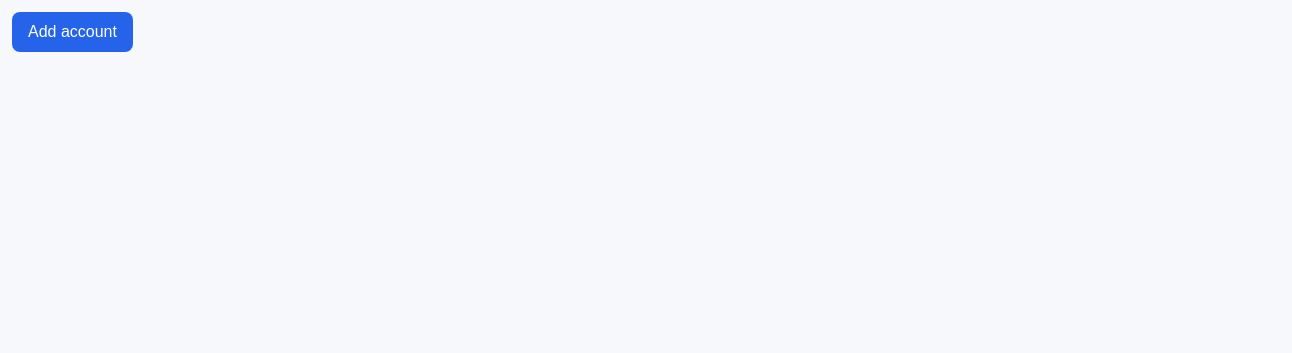
Scenario: chart of accounts form › shows a retryable failure and retains the account details when creation throws
This screenshot has width=1292, height=353.
Click the button "Add account": {"x": 72, "y": 32} [12,12,133,52]
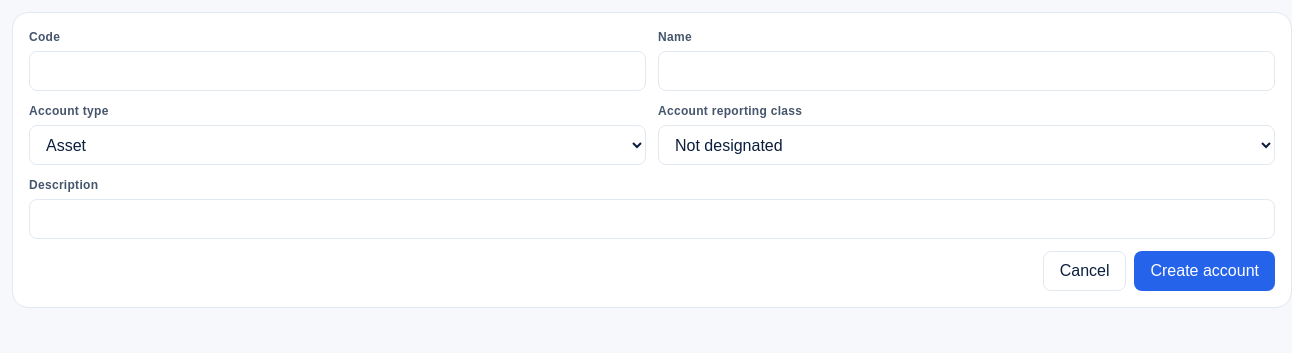
In the field labelled "Code": {"x": 338, "y": 71} [29,51,646,91], type "1010"
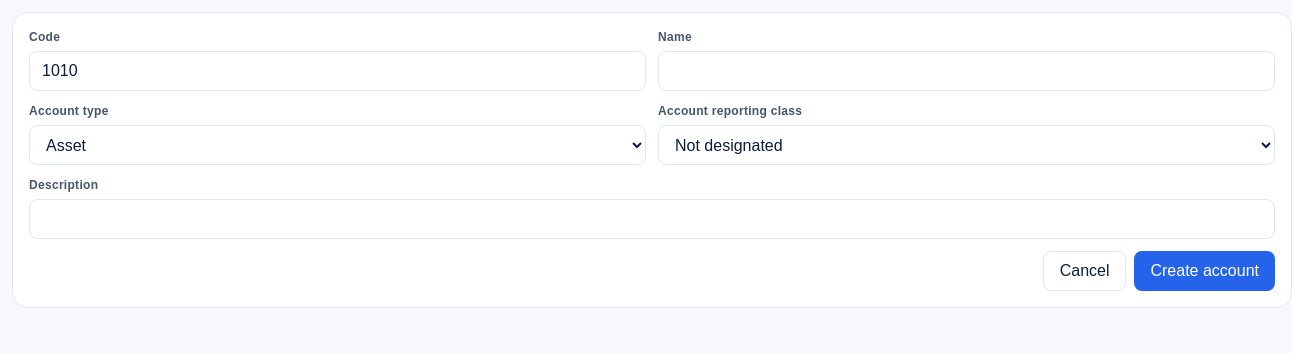
In the field labelled "Name": {"x": 966, "y": 71} [658,51,1275,91], type "Operating bank"
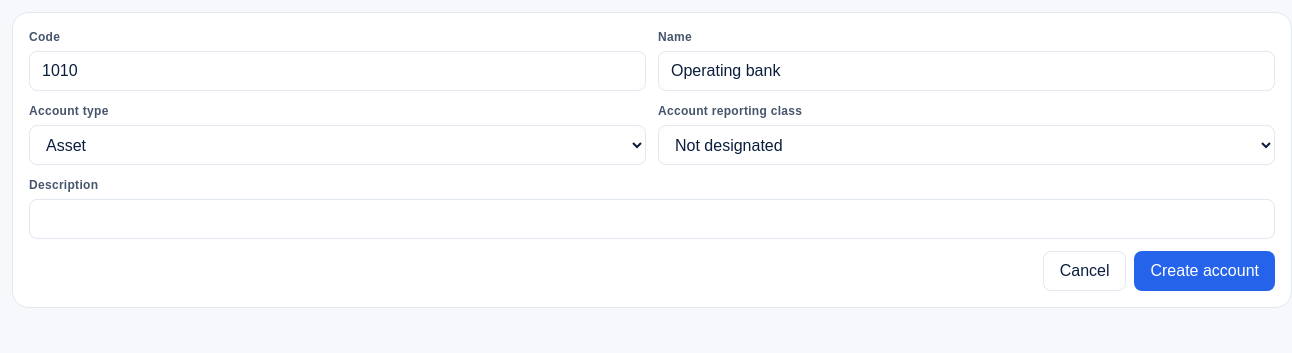
Submit the form labelled "Code"
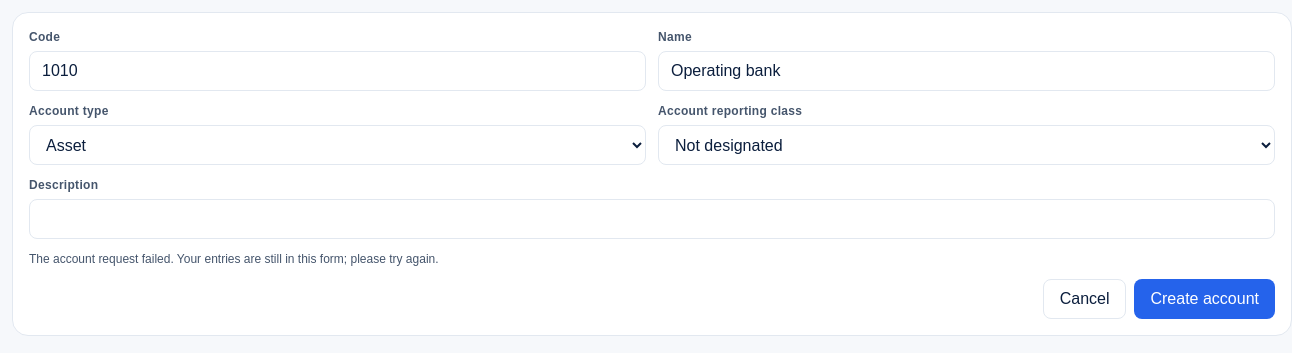
Check: the message shows "entries are still in this form", box [29,252,439,266]
